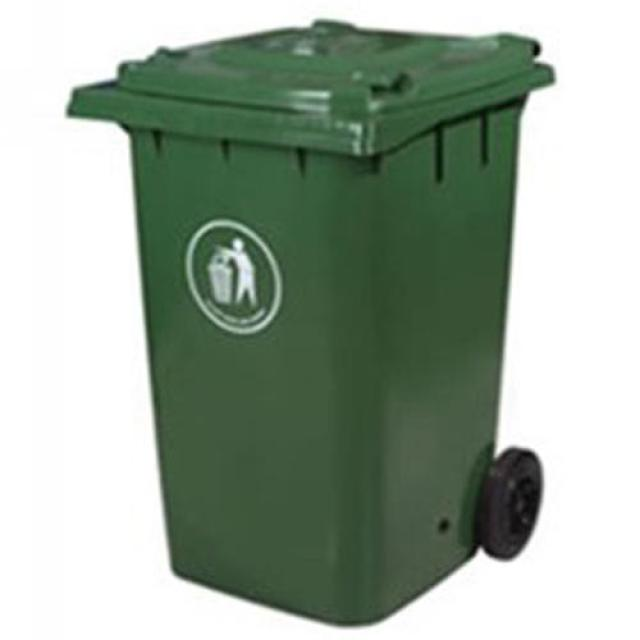garbage_bin: (63, 16, 554, 624)
